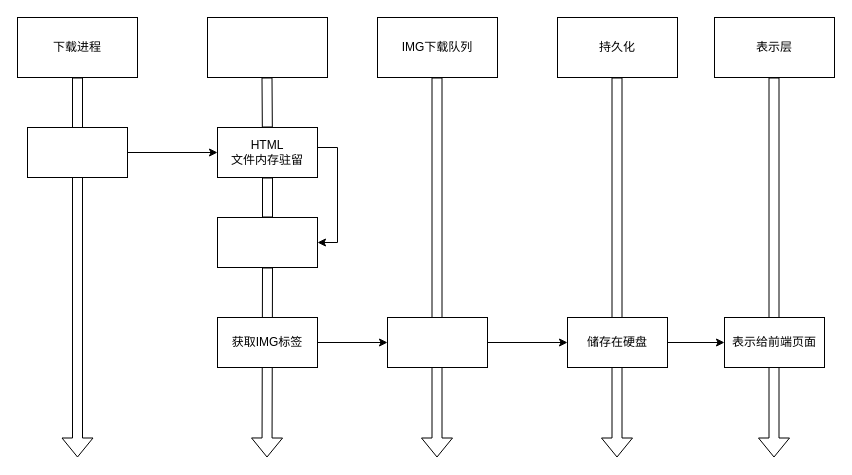
This 852x475 diagram has some shape labels left out. The centre of each missing label's shape, as x and y in pixels:
"HTML" belongs at pixel 77 152.
"HTML 有效标签查找" belongs at pixel 267 242.
"HTML处理队列" belongs at pixel 267 47.
"下载IMG" belongs at pixel 437 342.
